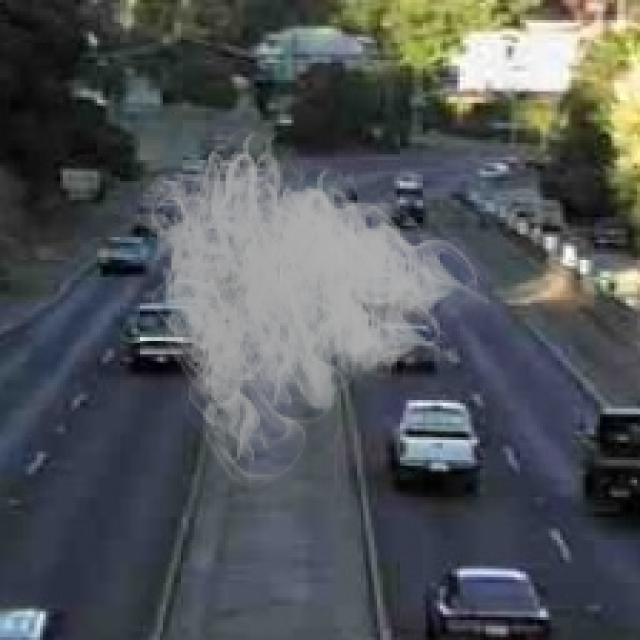smoke: (126, 117, 488, 494)
